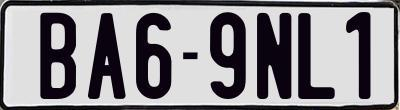1: (345, 11, 371, 100)
6: (135, 12, 173, 100)
9: (210, 9, 251, 101)
A: (88, 13, 128, 100)
B: (38, 12, 74, 100)
L: (298, 12, 341, 100)
N: (257, 11, 291, 99)
